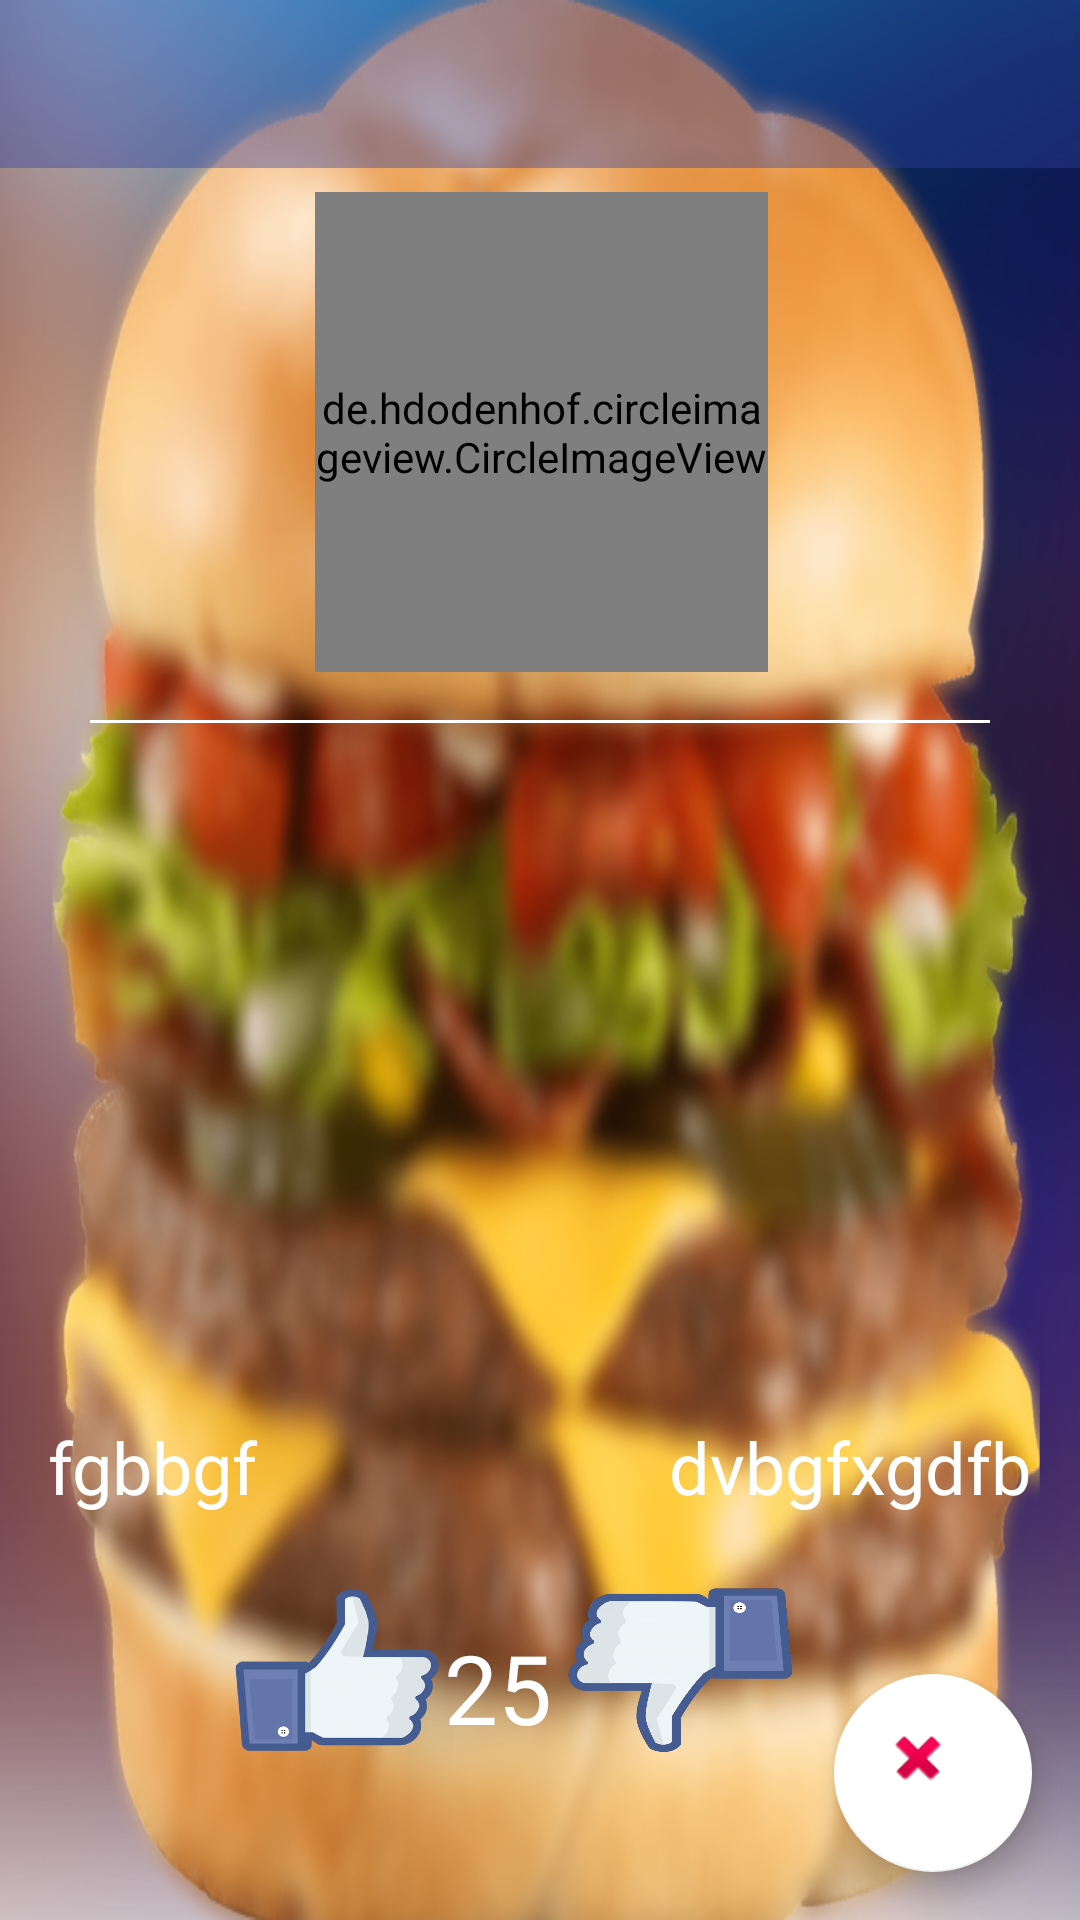

Screen size 1080 x 1920. Icon name, then its center in pixels as (x,y):
delete: (933,1773)
dislike: (679,1669)
